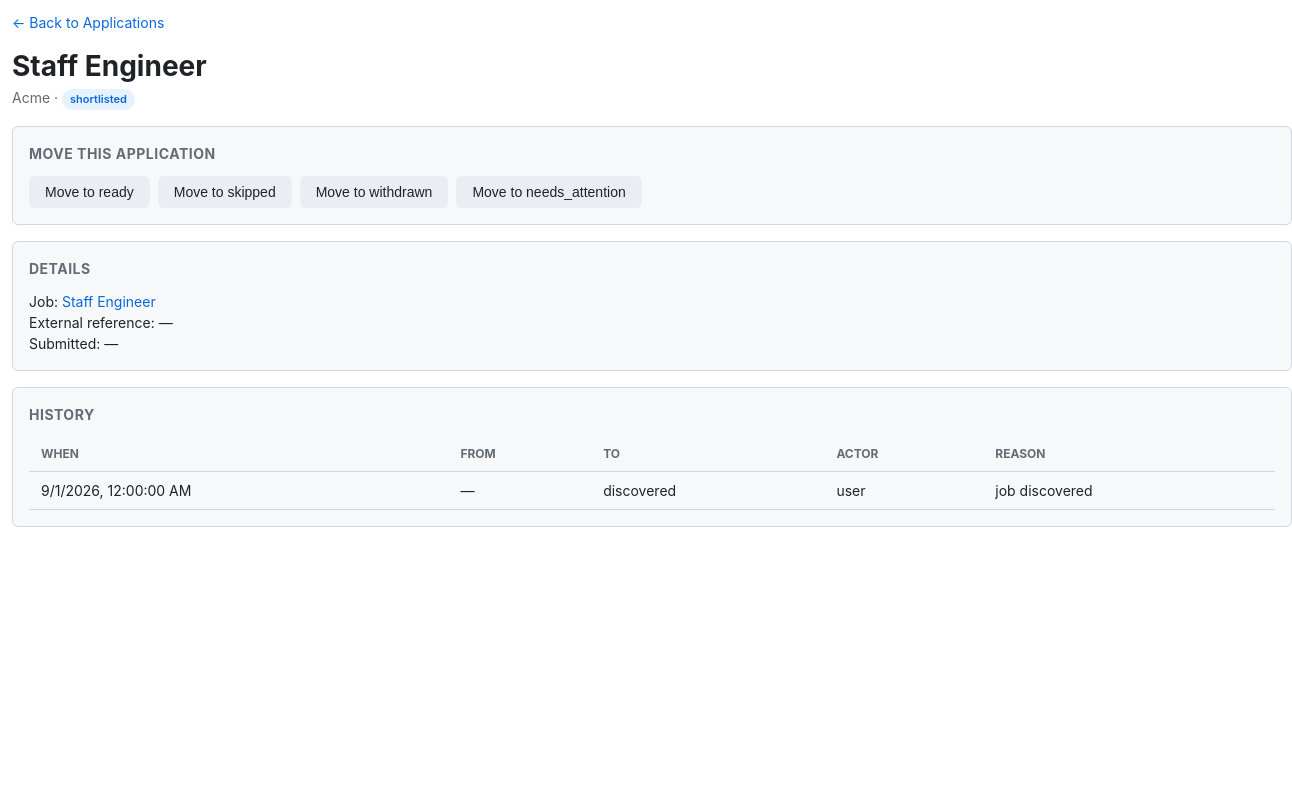
Scenario: Applications › reports a transition the server refuses
Click the button "Move to ready". click: (89, 192)
box: [29,176,150,208]
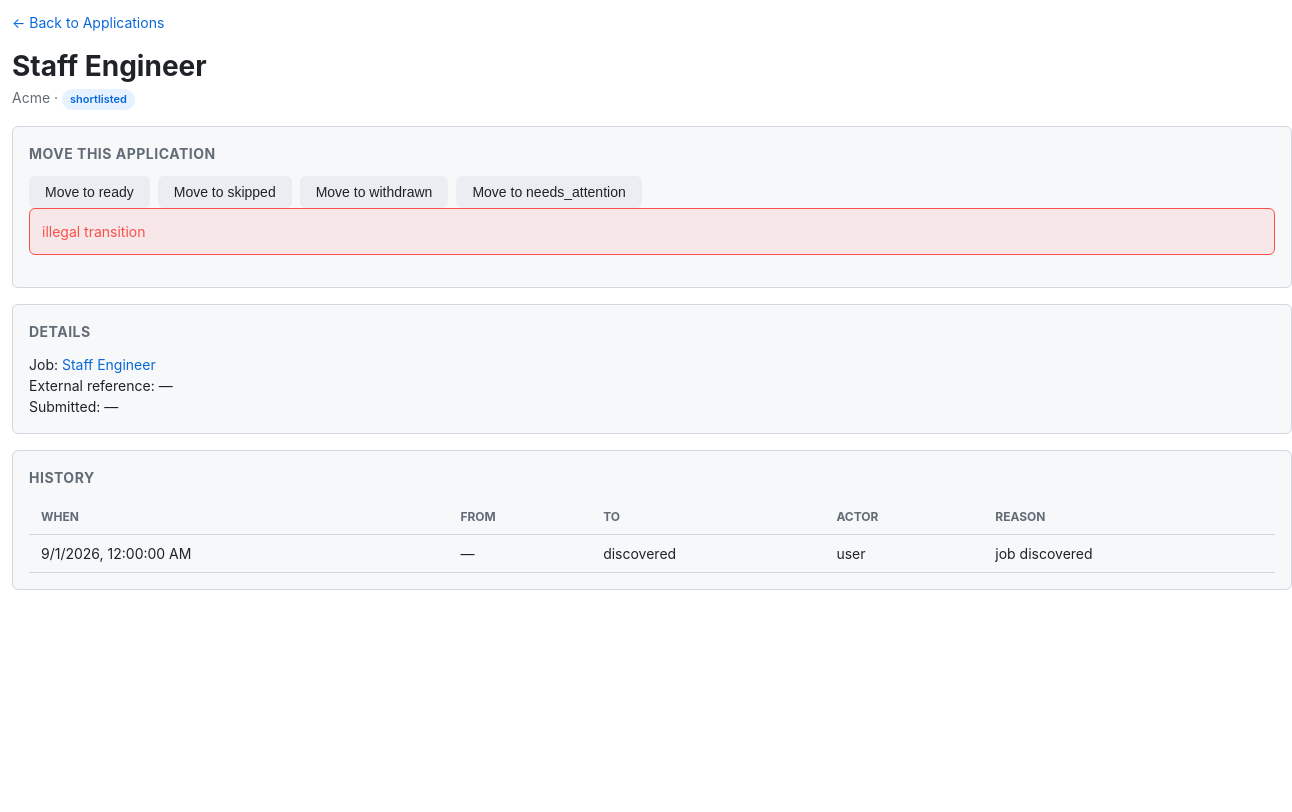
expect the text "illegal transition" is shown: met, box [29,208,1275,254]
